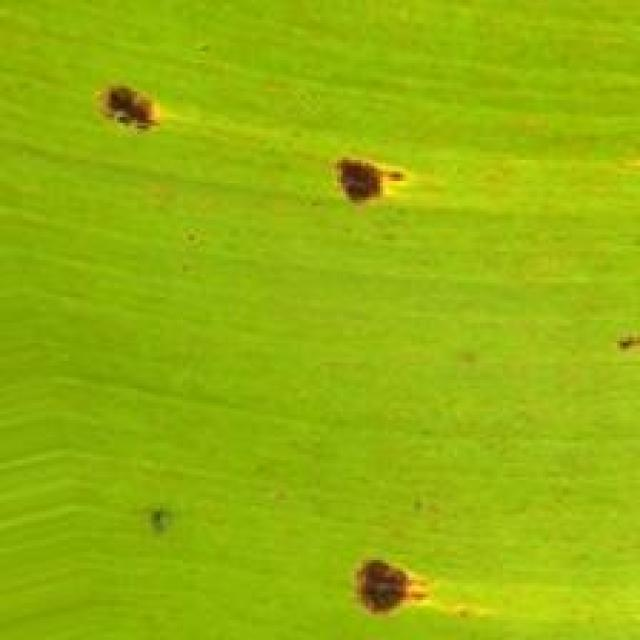Bacterial_spot: (332, 538, 446, 624), (76, 67, 181, 151), (322, 140, 414, 214), (140, 492, 190, 545), (608, 323, 640, 376)
